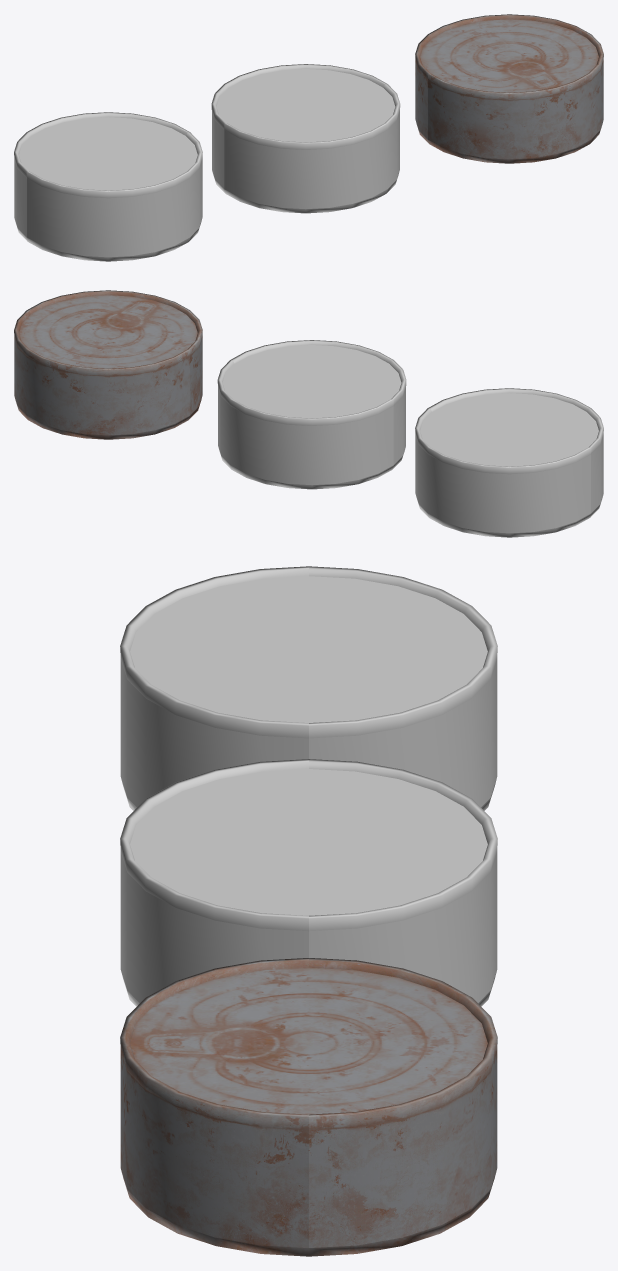
File: Canned_Food.obj
3 renders of one model, top to bottom at view 1: azimuth 30°, elevation 25°; view 2: azimuth 150°, elevation 25°; view 3: azimuth 270°, elevation 25°, orthographic. The views are drawn at different scales.
Visible parts, largest first — view 1: CannedFood_001_Can1_0_1, CannedFood_002_Can3_0_1, CannedFood_Can2_0_1; view 2: CannedFood_001_Can1_0_1, CannedFood_002_Can3_0_1, CannedFood_Can2_0_1; view 3: CannedFood_002_Can3_0_1, CannedFood_Can2_0_1, CannedFood_001_Can1_0_1.
Part boxes in pixels (<box>): CannedFood_001_Can1_0_1: <box>14,112,202,261</box>; CannedFood_002_Can3_0_1: <box>415,14,603,163</box>; CannedFood_Can2_0_1: <box>211,64,400,213</box>; CannedFood_001_Can1_0_1: <box>415,388,603,537</box>; CannedFood_002_Can3_0_1: <box>14,290,202,439</box>; CannedFood_Can2_0_1: <box>217,340,406,489</box>; CannedFood_002_Can3_0_1: <box>120,958,497,1256</box>; CannedFood_Can2_0_1: <box>120,759,497,1006</box>; CannedFood_001_Can1_0_1: <box>120,566,497,810</box>.
Bounding box in the file's own units: 37.05 × 4.41 × 10.73.
